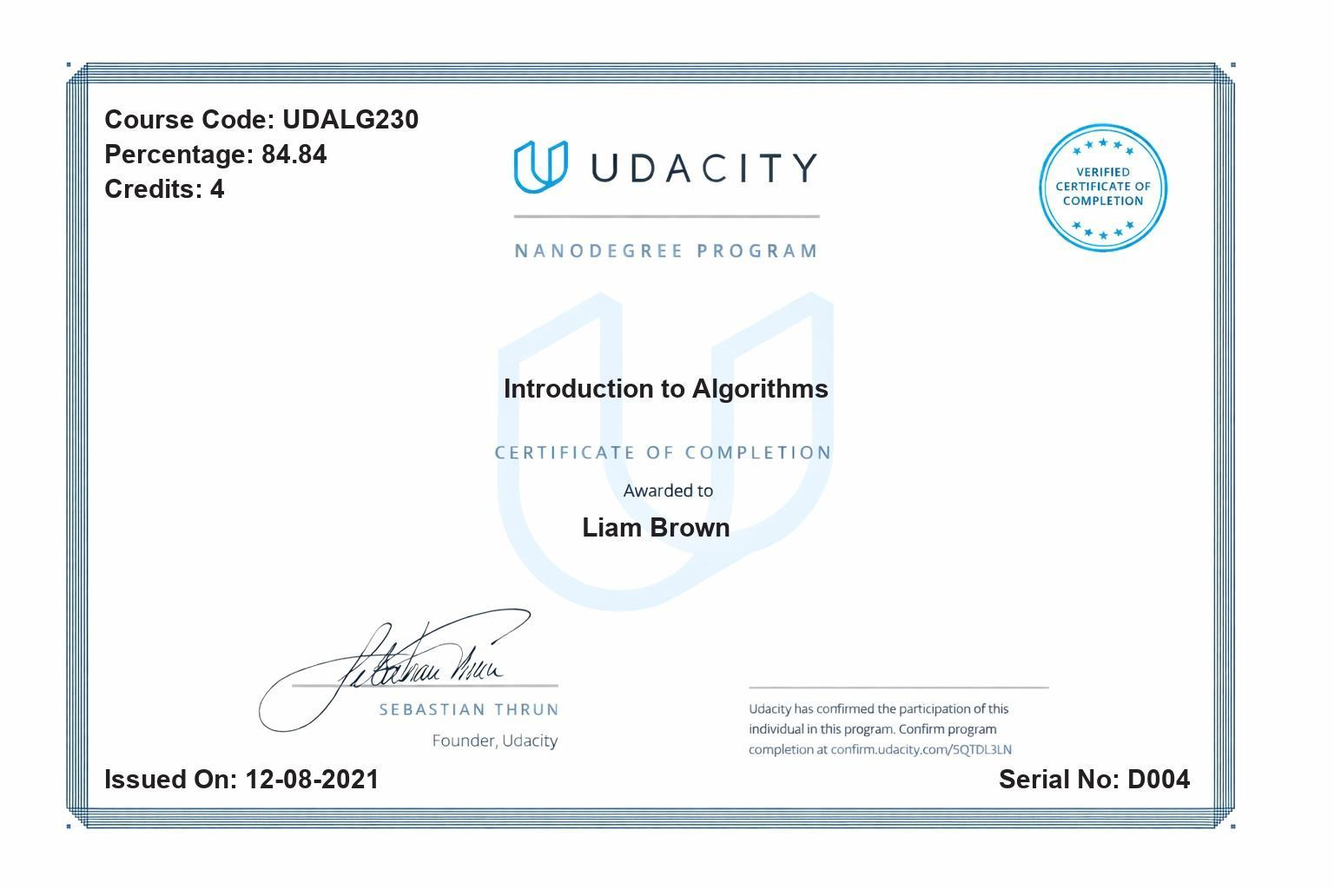Course Code: (278, 92, 436, 140)
Course Name: (494, 368, 837, 412)
Credits: (204, 168, 235, 205)
Issued On: (239, 760, 391, 801)
Percentage: (255, 137, 333, 177)
Serial No: (1120, 757, 1203, 796)
Student Name: (573, 504, 744, 555)
